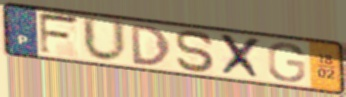D: (128, 22, 173, 68)
F: (37, 11, 83, 57)
G: (266, 41, 308, 84)
S: (173, 28, 218, 75)
U: (80, 15, 130, 65)
X: (218, 32, 264, 82)
